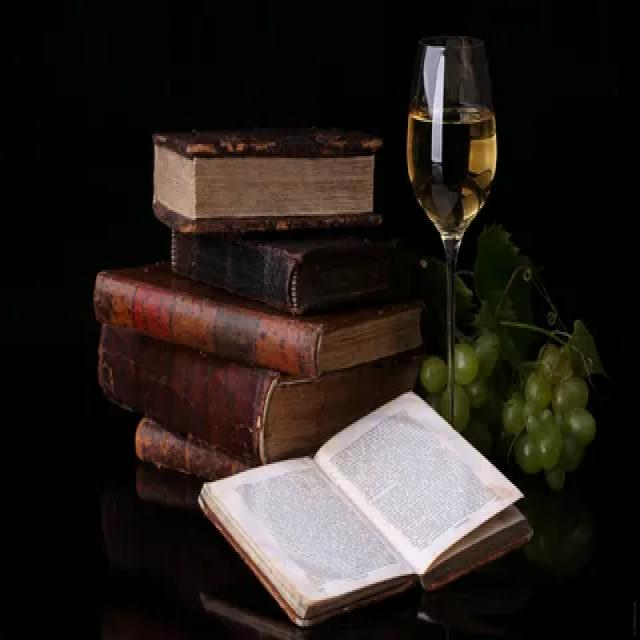book: (180, 377, 536, 626), (142, 109, 389, 240)
